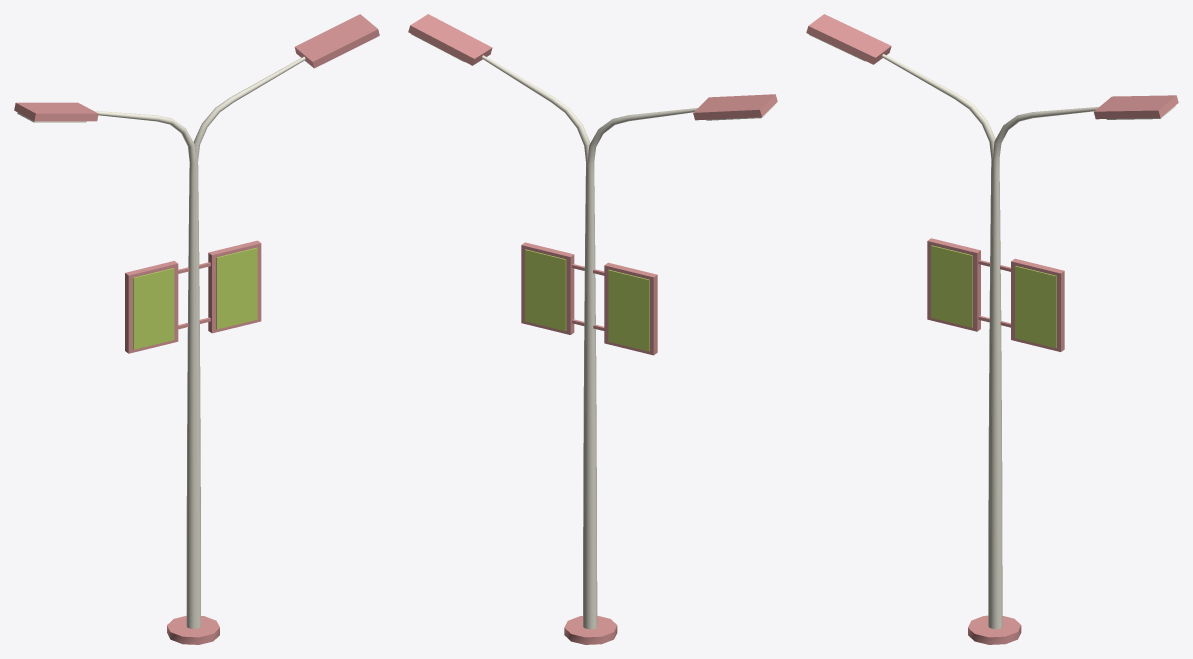
The model's file is props14.fbx.
3 renders of one model, left to right at view 1: azimuth 30°, elevation 25°; view 2: azimuth 150°, elevation 25°; view 3: azimuth 330°, elevation 25°, orthographic.
Parts seen in each view (by area): view 1: Cylinder_1; view 2: Cylinder_1; view 3: Cylinder_1.
Part boxes in pixels (x1,y1,x2,y2): Cylinder_1: (14, 14, 379, 644); Cylinder_1: (408, 14, 777, 644); Cylinder_1: (806, 14, 1178, 644).
Size of the model in its own units: 680 by 1062 by 89.64.
